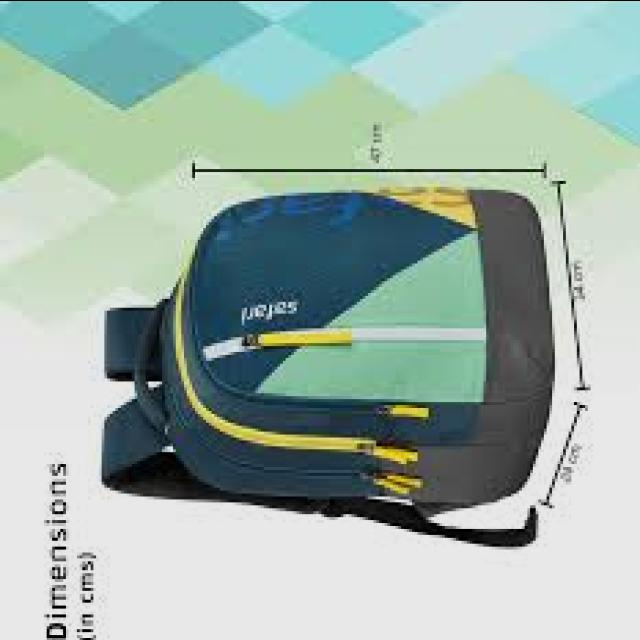backpack: (100, 187, 570, 550)
